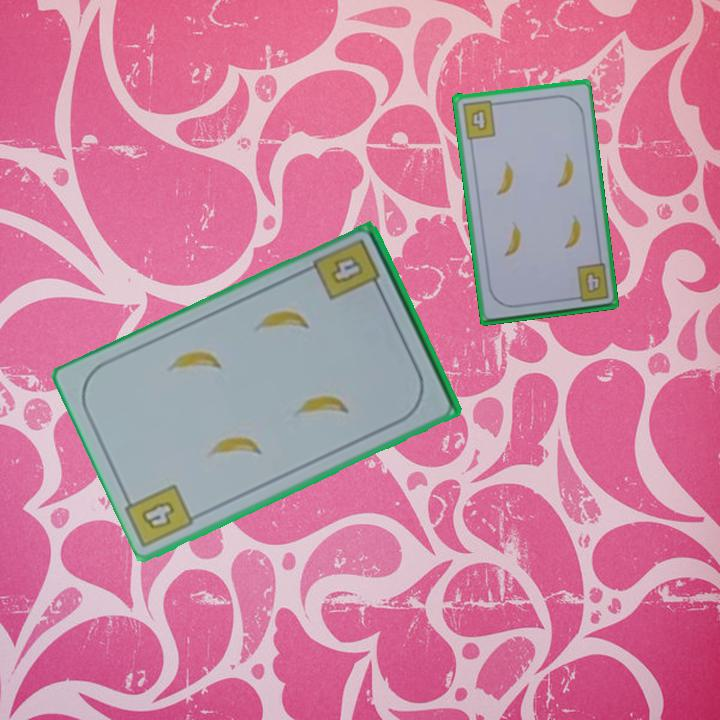4b: (310, 235, 385, 304), (459, 96, 502, 141), (137, 497, 178, 533), (581, 268, 603, 296)
